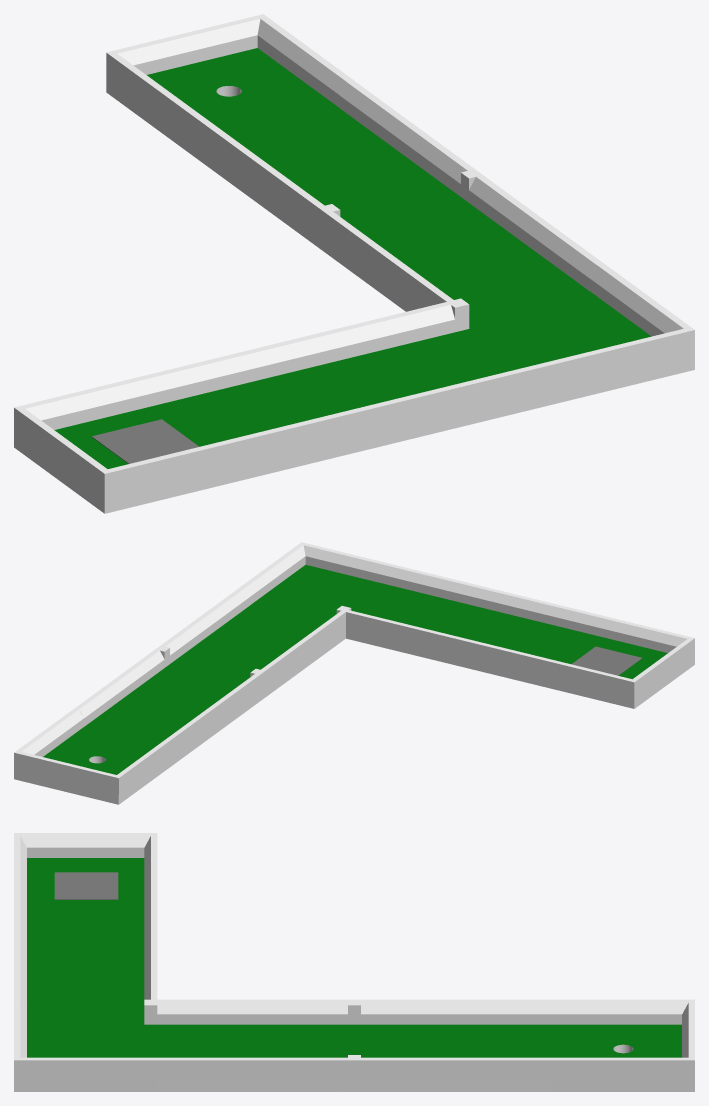
Rendered from Level4Model.obj.
The picture shows the model from 3 angles, top to bottom: view 1: azimuth 30°, elevation 25°; view 2: azimuth 150°, elevation 25°; view 3: azimuth 270°, elevation 25°; orthographic projection. The views are drawn at different scales.
Visible parts, largest first — view 1: polySurface607; view 2: polySurface607; view 3: polySurface607.
Part boxes in pixels (x1,y1,x2,y2): polySurface607: [14, 14, 694, 513]; polySurface607: [14, 542, 694, 804]; polySurface607: [14, 833, 694, 1091].
Size of the model in its own units: 8.41 by 0.5445 by 10.65.
Materials: 3 (2 with a texture image).
